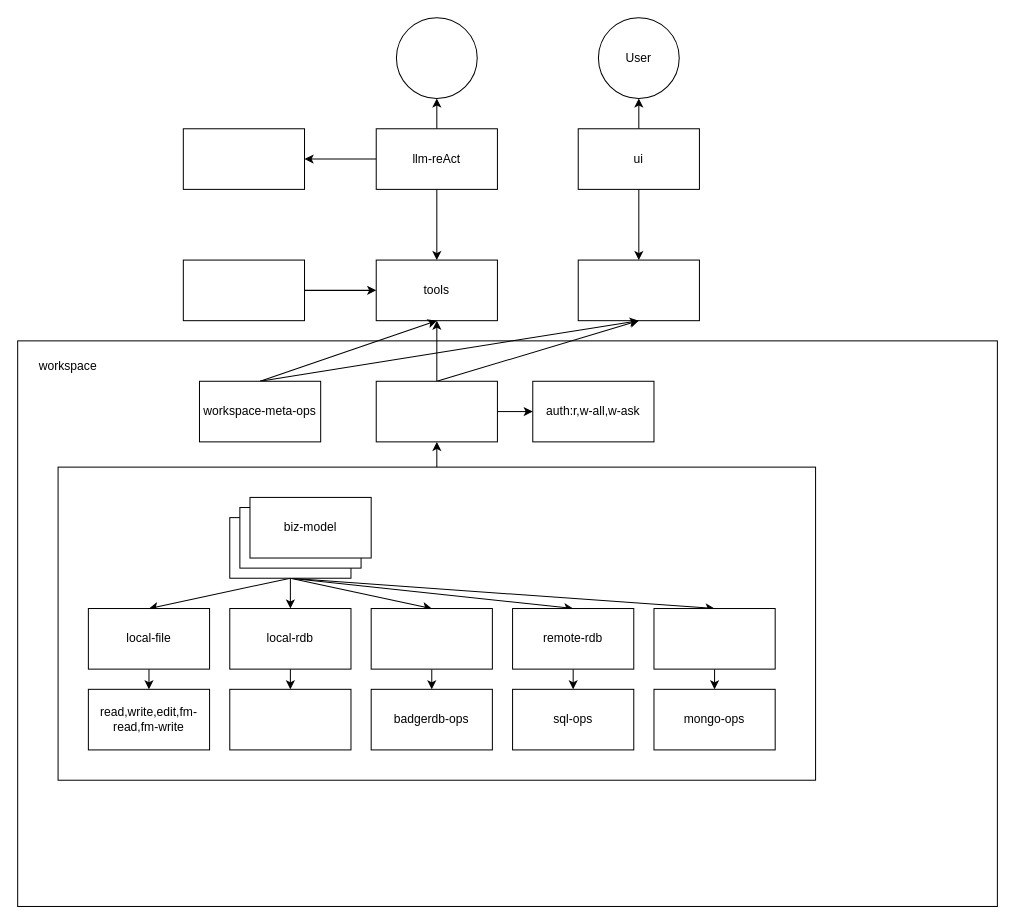
Image size: 1015x924. Some labels were removed from this diagram. The centre of each missing label's shape, as x and y in pixels:
llm: the point at 436,57
local-nosql: the point at 431,638
mem: the point at 243,158
mem-meta-ops: the point at 243,290
model-as-tree-with-ops: the point at 436,411
remote-nosql: the point at 714,638
service: the point at 638,290
sqlite-ops: the point at 290,719
